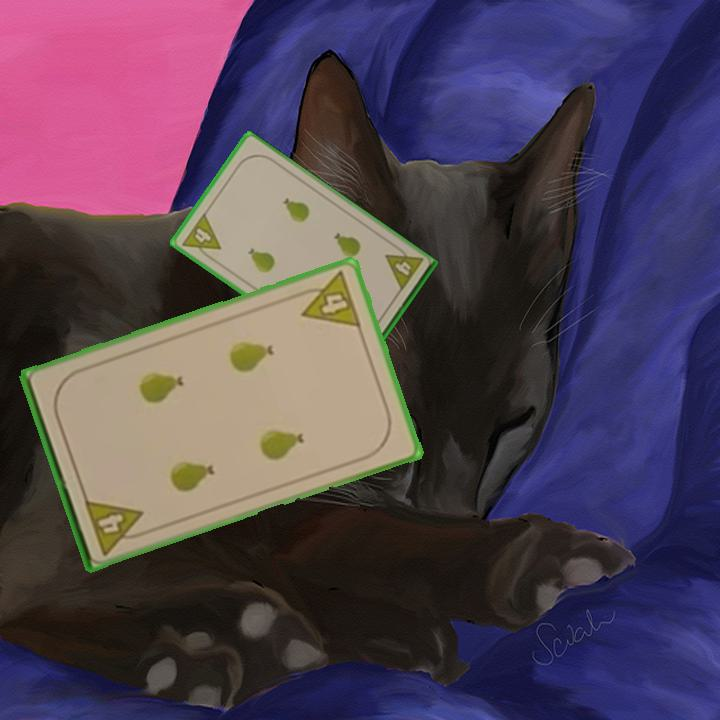4p: (292, 267, 364, 331), (80, 495, 151, 558), (178, 209, 224, 263), (382, 241, 426, 295)
